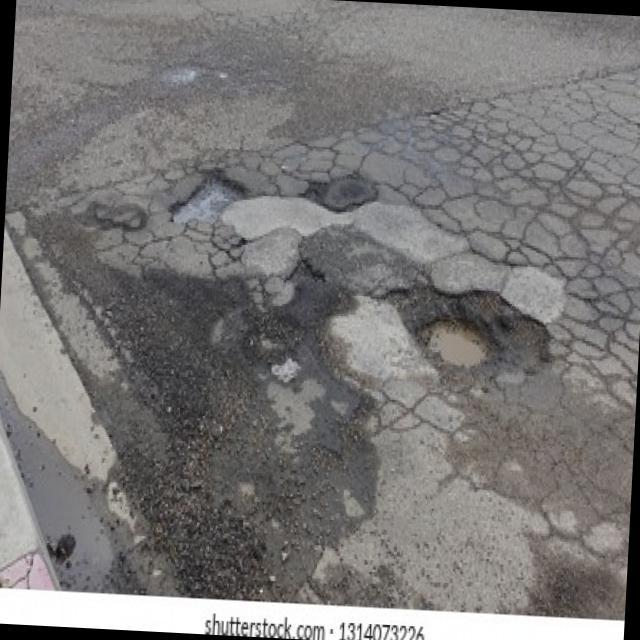Pothole: (403, 279, 552, 386), (170, 166, 246, 230), (241, 309, 303, 378), (285, 258, 326, 290)
